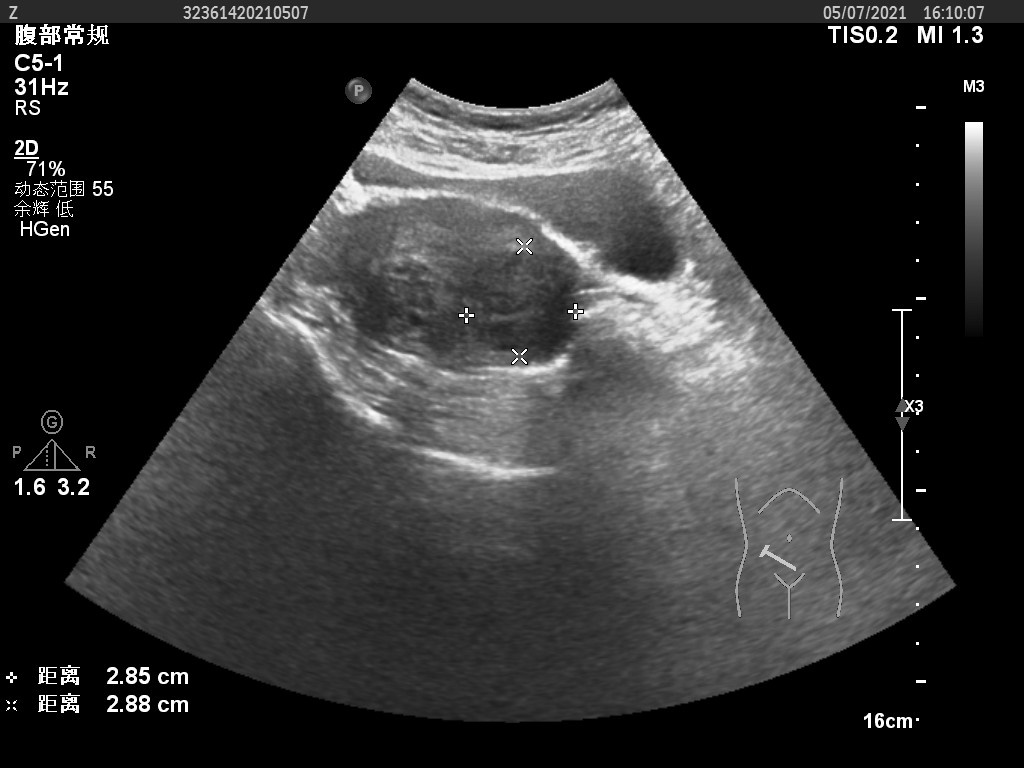肌瘤: (461, 261, 574, 354)
